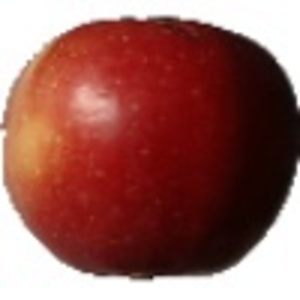maçã braeburn: (1, 15, 299, 278)
